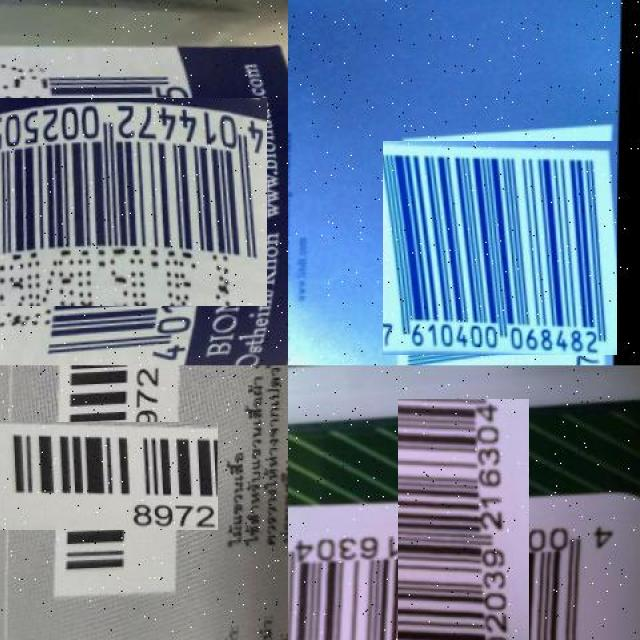Barcode: (0, 69, 237, 336), (388, 136, 613, 360), (343, 454, 584, 640), (23, 394, 190, 559)
